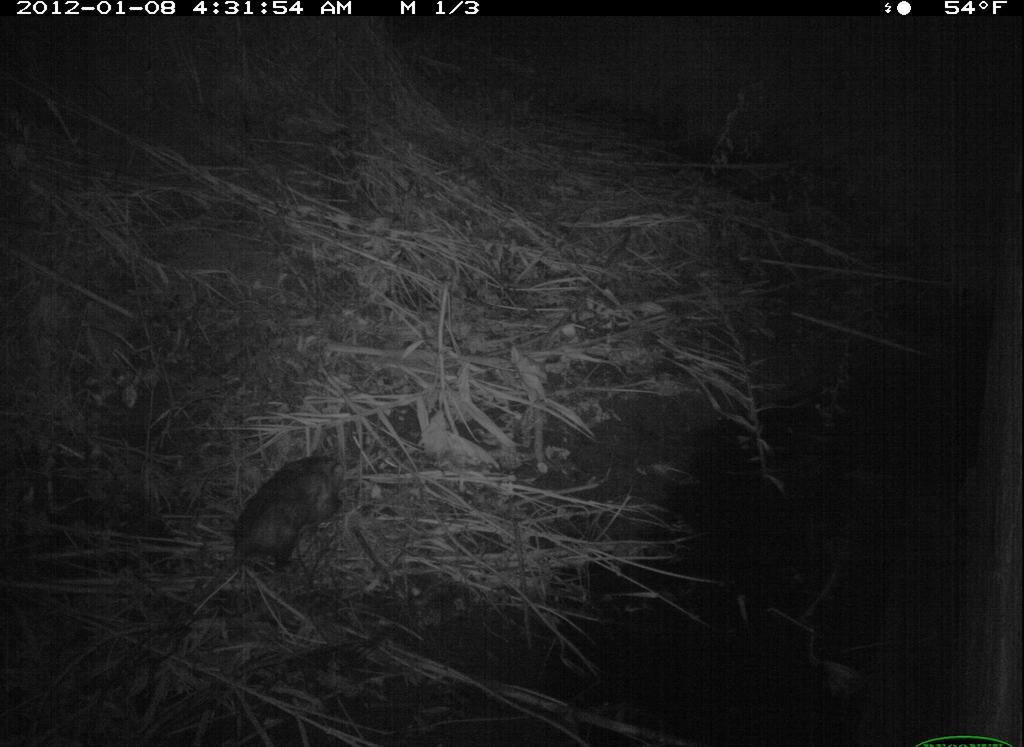opossum: (205, 419, 372, 598)
